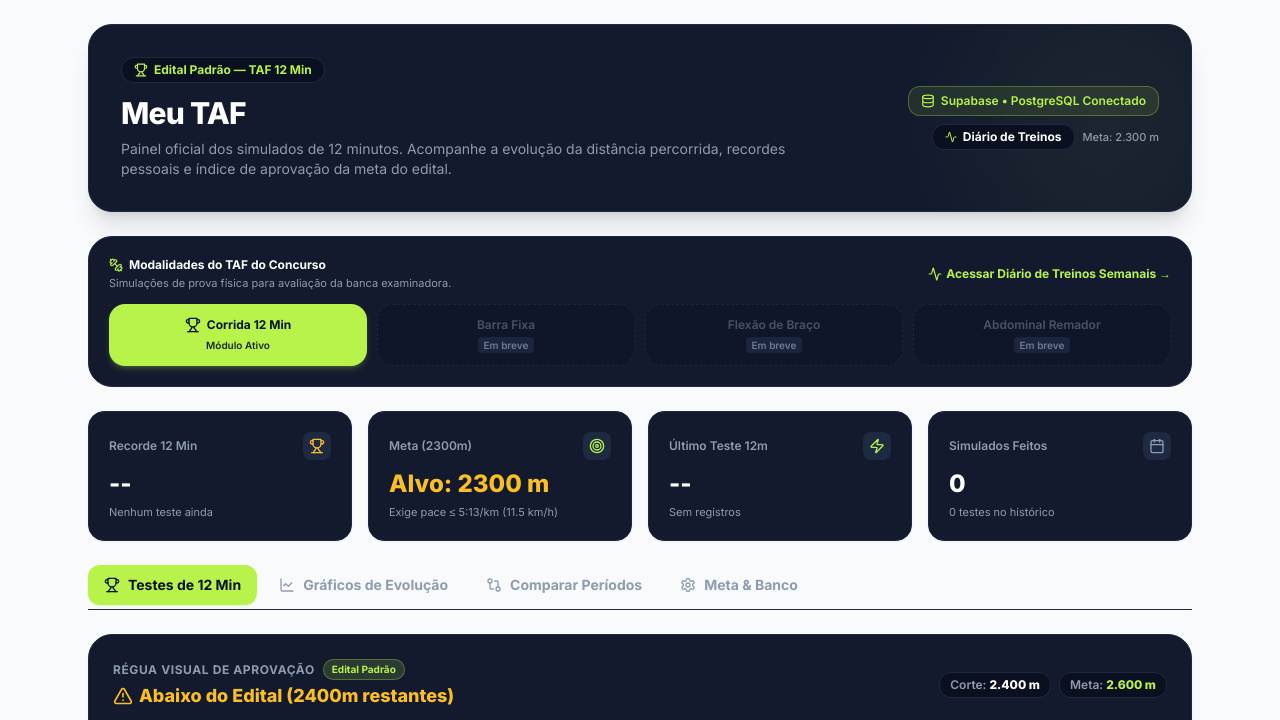
Test case: MeuTafPage - Fase F (Comparador de Períodos & Configuração de Meta / Backup) › Comparador de Períodos › navega para a aba Comparar Períodos e exibe aviso de amostragem reduzida com base vazia
Click the button "Comparar Períodos" at [564, 585], box [470,565,658,605]
(page scrolled)
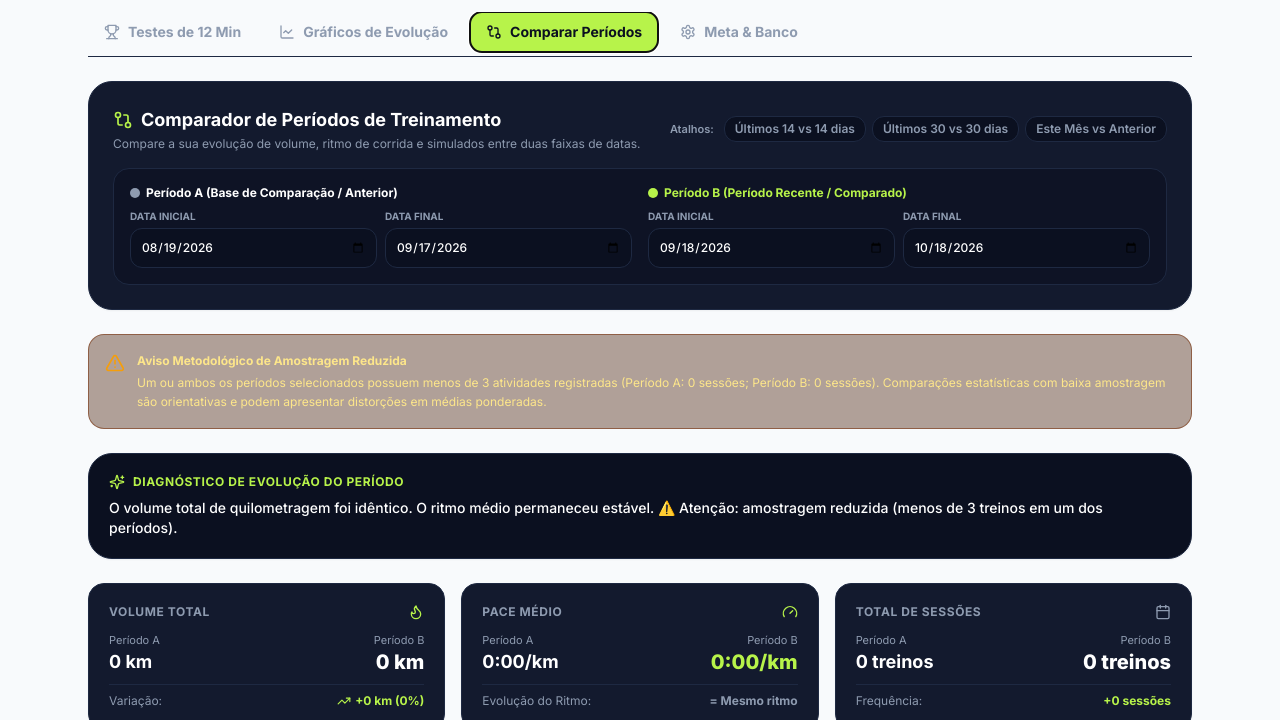
Expected: the heading "Comparador de Períodos de Treinamento" is shown, [113,109,501,130]
Expected: the element with test id "low-sample-warning" is shown, [88,334,1192,428]
Expected: the text "Aviso Metodológico de Amostragem Reduzida" is shown, [137,353,407,368]
